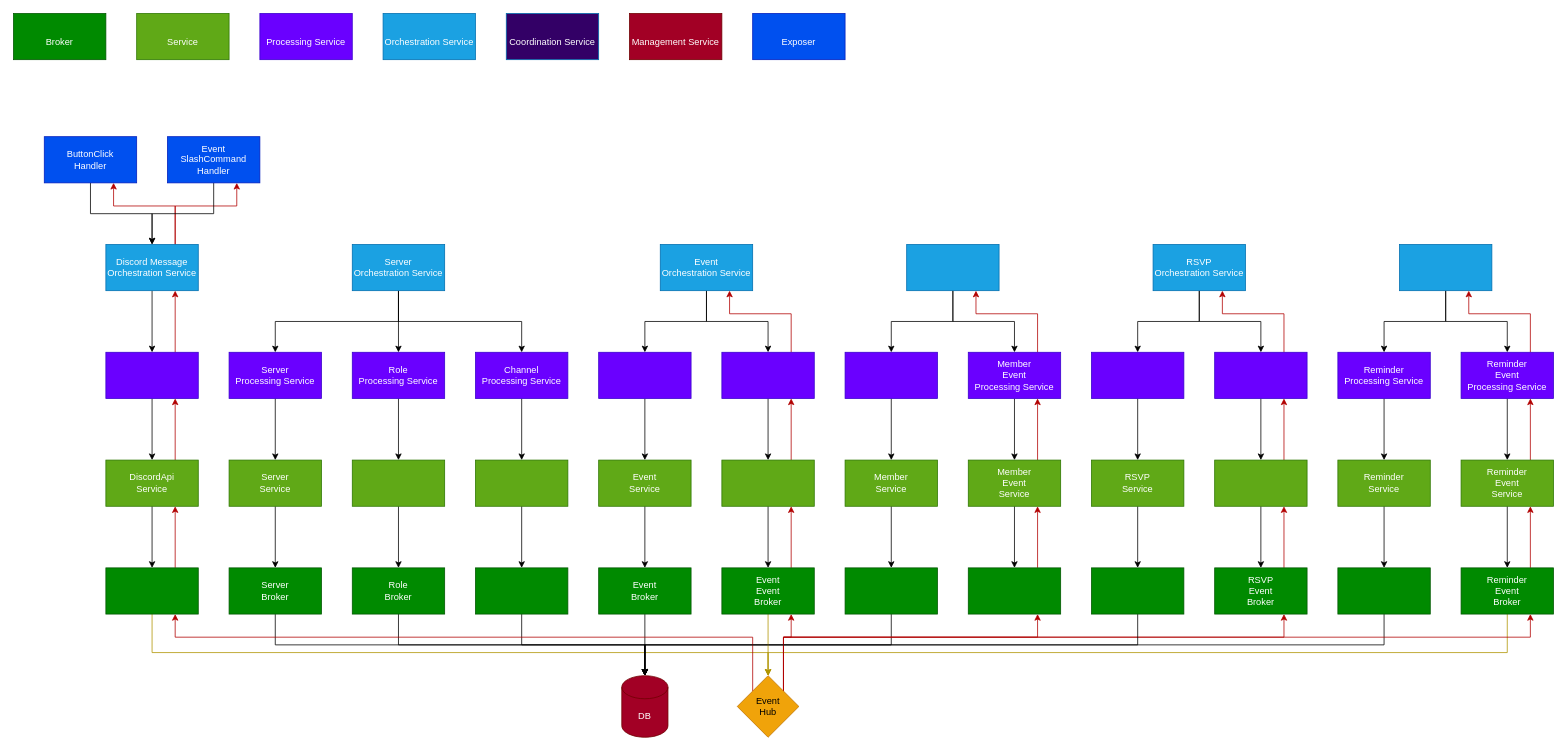
Some shapes in this 1567 by 751 pixel diagram are drawn without their labels. Here are the shapes that lost their labels. From the top down, the centre of each, then its label:
At (x=952, y=267): "Member Orchestration Service".
At (x=1445, y=267): "Reminder Orchestration Service".
At (x=151, y=375): "DiscordApi Processing Service".
At (x=644, y=375): "Event Processing Service".
At (x=767, y=375): "Event Event Processing Service".
At (x=890, y=375): "Member Processing Service".
At (x=1137, y=375): "RSVP Processing Service".
At (x=1260, y=375): "RSVP Event Processing Service".
At (x=398, y=482): "Role Service".
At (x=521, y=482): "Channel Service".
At (x=767, y=482): "Event Event Service".
At (x=1260, y=482): "RSVP Event Service".
At (x=151, y=590): "DiscordApi Broker".
At (x=521, y=590): "Channel Broker".
At (x=890, y=590): "Member Broker".
At (x=1014, y=590): "Member Event Broker".
At (x=1137, y=590): "RSVP Broker".
At (x=1383, y=590): "Reminder Broker".
